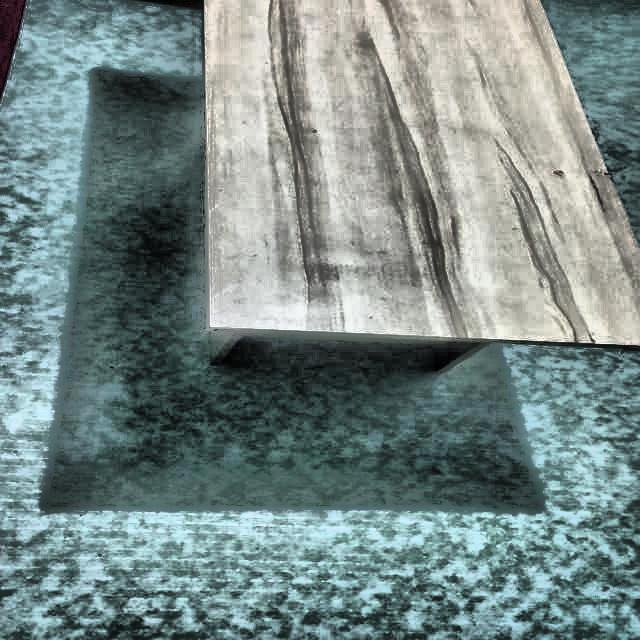mesa: (198, 0, 640, 388)
